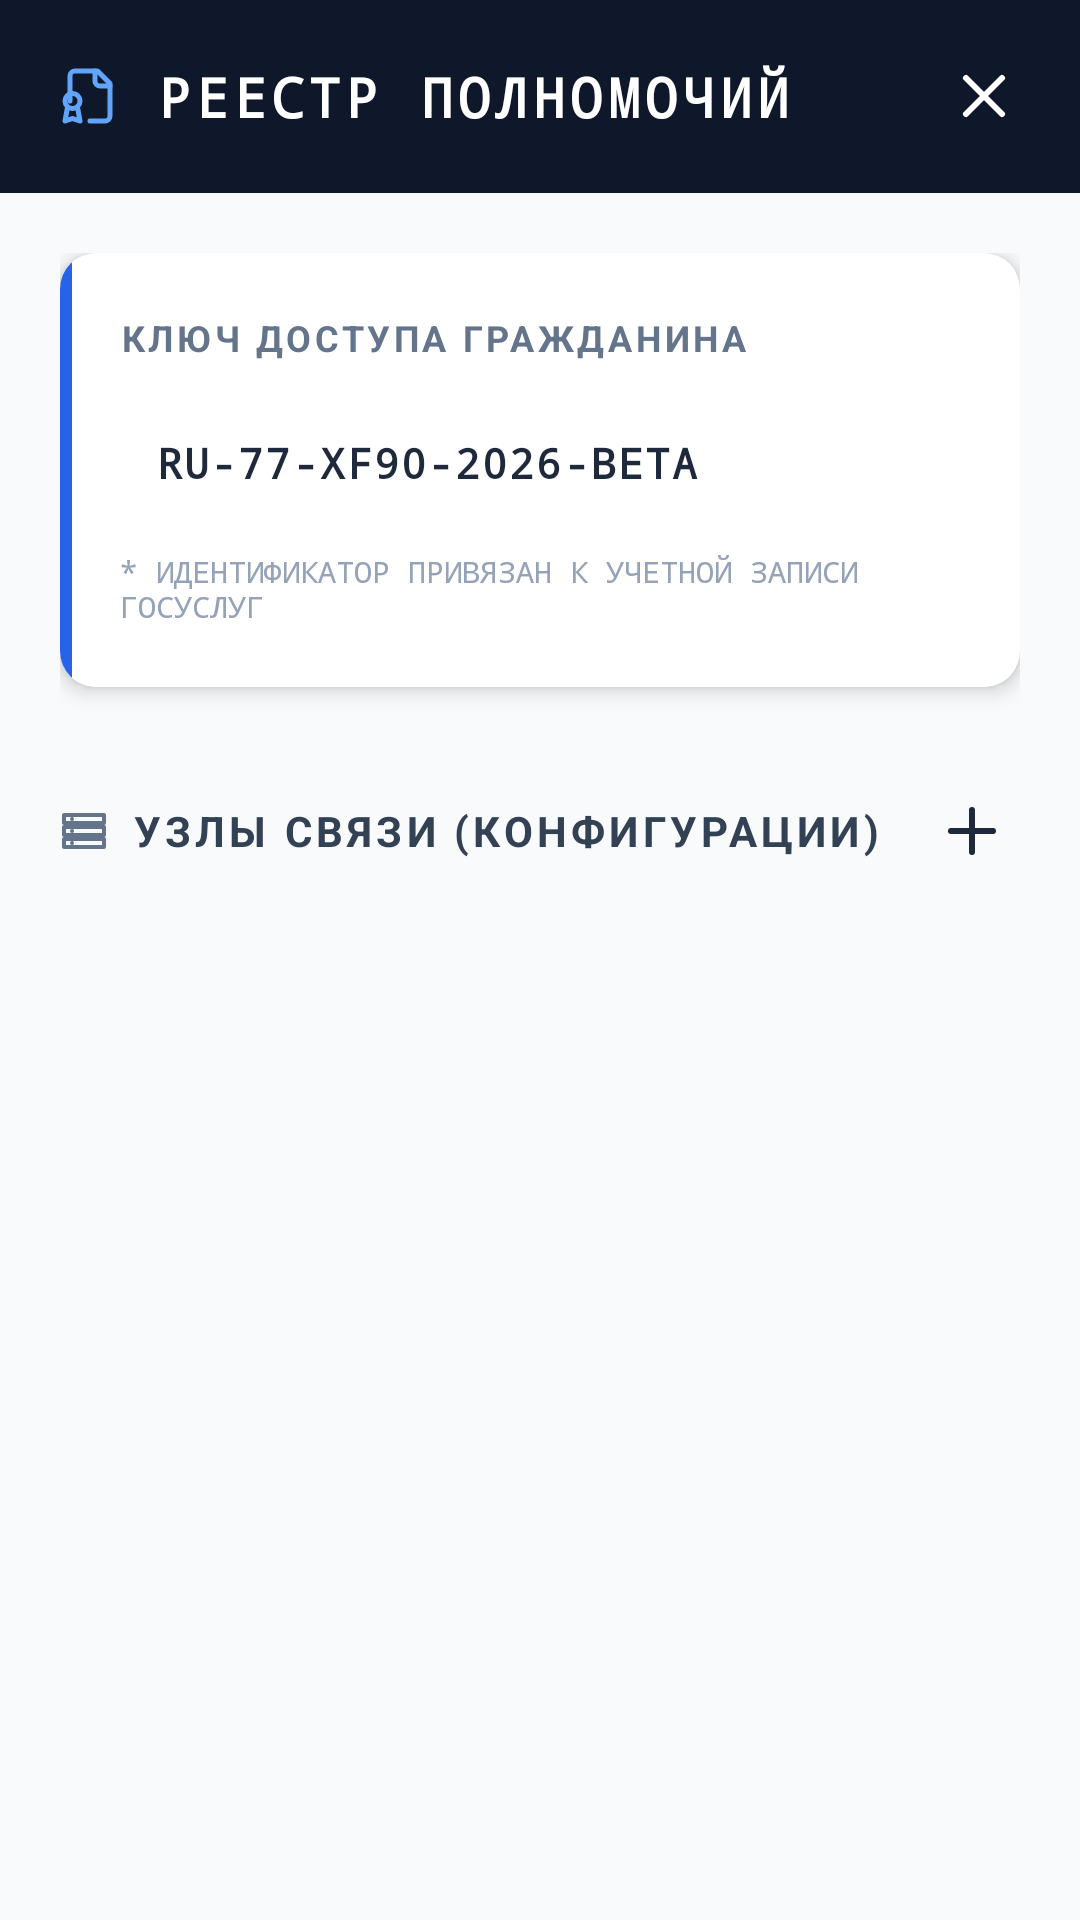

Locate icon controls on the screen. Image size 1080*1920, boxes as (x1, y1, x2, y2).
add: (948, 807, 996, 855)
close: (963, 75, 1005, 117)
file badge: (62, 68, 113, 124)
server: (62, 813, 106, 849)
